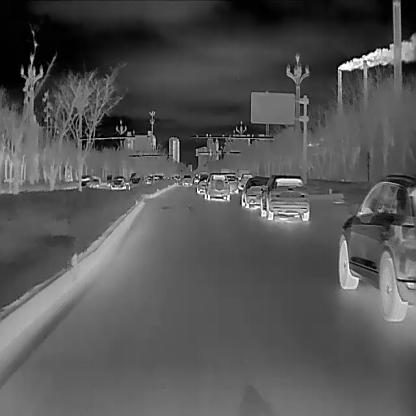car: (338, 172, 415, 322), (259, 173, 309, 221), (240, 176, 271, 207), (203, 171, 230, 200), (223, 172, 239, 194), (78, 174, 100, 188), (194, 175, 210, 193), (128, 171, 146, 187), (237, 173, 253, 190), (109, 174, 126, 189), (182, 174, 193, 184)
